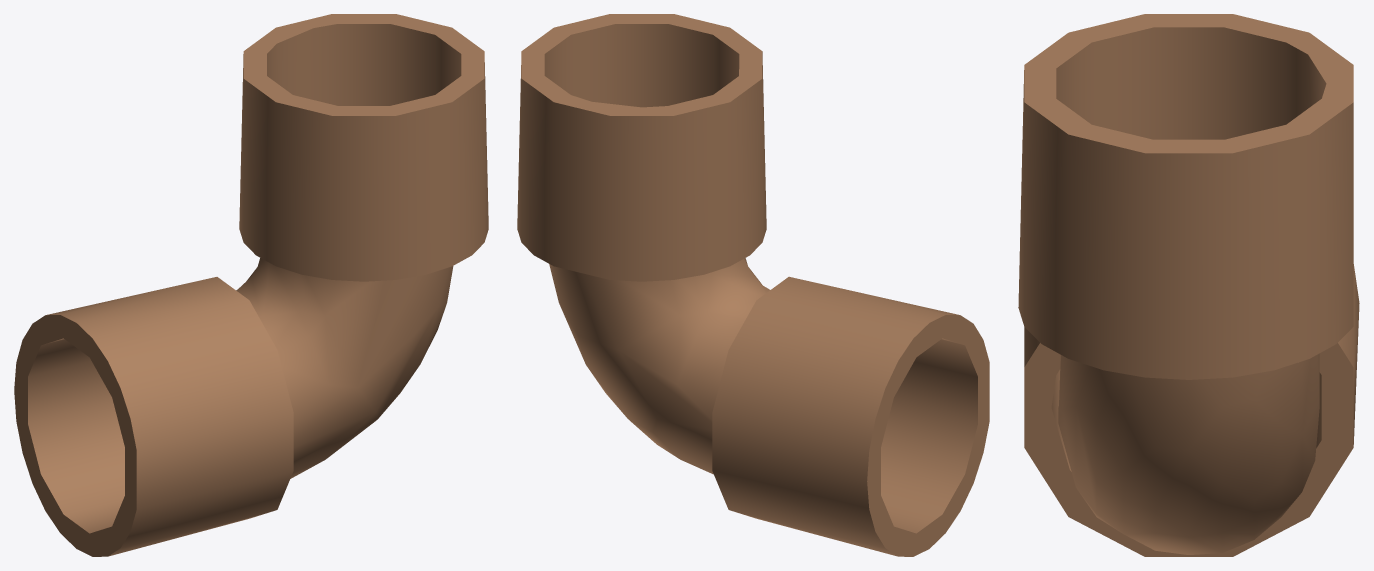
The model's file is HID-CNX-001_lod1.glb.
3 views of the same model, side by side, from view 1: azimuth 30°, elevation 25°; view 2: azimuth 150°, elevation 25°; view 3: azimuth 270°, elevation 25° (orthographic). The views are drawn at different scales.
Parts seen in each view (by area): view 1: HID-CNX-001_bolsa1, HID-CNX-001_bolsa2, HID-CNX-001_curva; view 2: HID-CNX-001_bolsa1, HID-CNX-001_bolsa2, HID-CNX-001_curva; view 3: HID-CNX-001_bolsa2, HID-CNX-001_curva, HID-CNX-001_bolsa1.
Boxes of the visible parts, left/top/right/bottom form: HID-CNX-001_bolsa1: left=14, top=277, right=293, bottom=556; HID-CNX-001_bolsa2: left=239, top=14, right=488, bottom=281; HID-CNX-001_curva: left=236, top=258, right=453, bottom=478; HID-CNX-001_bolsa1: left=712, top=276, right=989, bottom=556; HID-CNX-001_bolsa2: left=517, top=14, right=766, bottom=281; HID-CNX-001_curva: left=549, top=258, right=769, bottom=474; HID-CNX-001_bolsa2: left=1018, top=14, right=1353, bottom=379; HID-CNX-001_curva: left=1058, top=353, right=1319, bottom=554; HID-CNX-001_bolsa1: left=1024, top=264, right=1359, bottom=556.
Size of the model in its own units: 0.0567 by 0.0568 by 0.031.
